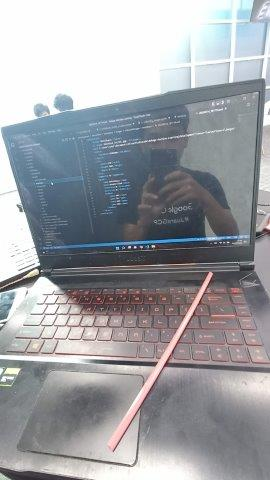sedotan: (107, 272, 213, 451)
